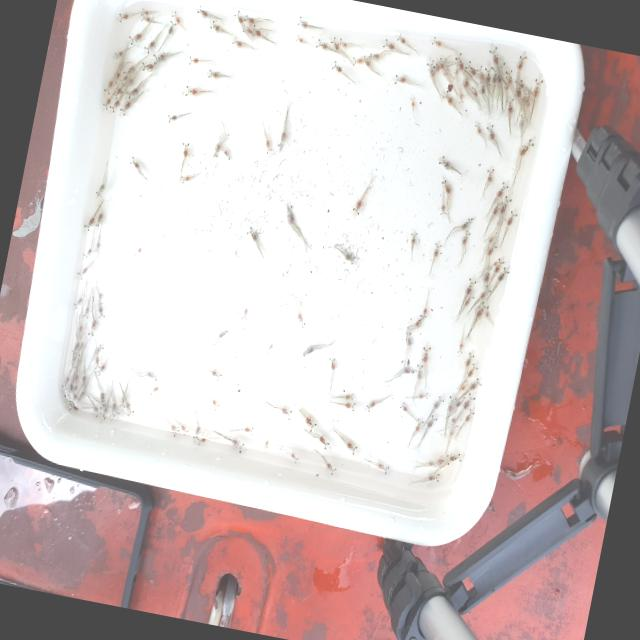babyshrimp: (515, 134, 535, 159), (459, 393, 475, 416), (349, 196, 364, 218), (531, 73, 543, 100), (488, 41, 500, 67), (230, 437, 247, 455), (495, 264, 511, 282), (494, 180, 509, 199), (504, 207, 518, 227), (495, 60, 506, 85), (515, 50, 527, 72), (467, 376, 483, 392), (317, 433, 332, 450), (152, 52, 170, 66), (499, 194, 511, 215), (474, 300, 488, 318), (303, 414, 317, 432), (278, 404, 292, 422), (276, 131, 288, 152), (127, 32, 143, 47), (297, 342, 313, 357), (195, 4, 212, 18), (344, 438, 358, 455), (329, 35, 342, 53), (463, 277, 476, 295), (323, 460, 336, 478), (245, 226, 258, 244), (294, 310, 305, 331), (208, 20, 223, 35), (328, 60, 343, 75), (284, 202, 293, 227), (437, 155, 451, 171), (82, 215, 95, 232), (143, 38, 156, 55), (293, 16, 310, 29), (312, 39, 330, 51), (430, 395, 444, 410), (169, 421, 180, 440), (128, 155, 141, 171), (249, 23, 262, 39), (440, 90, 453, 106), (491, 258, 504, 274), (144, 384, 160, 397), (94, 182, 106, 199), (464, 60, 476, 77), (421, 346, 431, 366), (460, 217, 474, 231), (76, 265, 89, 280), (142, 368, 157, 381), (343, 251, 356, 266), (478, 284, 490, 300), (119, 100, 130, 117), (102, 79, 113, 96), (107, 100, 120, 114), (380, 38, 394, 51), (375, 461, 389, 474), (122, 64, 134, 79), (184, 86, 199, 98), (392, 73, 407, 85), (454, 51, 463, 71), (490, 201, 502, 216), (446, 393, 456, 411), (435, 454, 450, 466), (124, 402, 135, 418), (205, 69, 221, 80), (233, 8, 244, 24), (463, 291, 474, 307), (463, 351, 474, 367), (466, 362, 477, 378), (211, 143, 222, 159), (485, 123, 494, 142), (87, 319, 97, 336), (485, 167, 495, 184), (460, 229, 470, 246), (216, 327, 229, 340), (141, 61, 155, 73), (425, 414, 437, 428), (447, 452, 461, 464), (363, 399, 375, 413), (242, 14, 257, 25), (335, 37, 350, 48), (426, 472, 441, 483), (505, 98, 514, 116), (166, 20, 176, 36), (441, 179, 451, 195), (264, 340, 274, 356), (125, 86, 137, 99), (230, 37, 243, 49), (430, 36, 443, 48), (72, 296, 83, 310), (170, 10, 181, 24), (483, 65, 492, 82), (413, 418, 423, 433), (81, 303, 90, 319), (94, 212, 103, 228), (490, 66, 498, 84), (413, 314, 422, 330), (409, 230, 417, 248), (192, 424, 201, 440), (93, 342, 104, 355), (343, 401, 356, 412), (241, 426, 254, 437), (179, 173, 192, 184), (82, 245, 92, 259), (395, 31, 405, 45), (461, 72, 468, 92), (289, 450, 299, 464), (222, 149, 232, 163), (109, 401, 117, 418), (99, 406, 108, 421), (163, 114, 178, 123), (432, 242, 441, 257), (328, 355, 337, 370), (181, 142, 190, 157), (76, 390, 86, 403), (350, 56, 363, 66), (360, 55, 370, 68), (366, 52, 379, 62), (474, 64, 484, 77), (455, 395, 465, 408), (211, 369, 221, 382), (92, 404, 101, 418), (111, 71, 120, 85), (473, 122, 482, 136), (416, 363, 423, 381), (240, 308, 249, 322), (112, 50, 123, 61), (294, 34, 305, 45), (95, 363, 105, 375), (133, 245, 141, 260), (139, 13, 151, 23), (187, 55, 199, 65), (439, 201, 447, 216), (405, 332, 413, 347), (180, 422, 188, 437), (456, 338, 463, 355), (67, 403, 80, 412), (101, 97, 110, 110), (118, 395, 126, 409), (485, 246, 495, 257), (118, 13, 130, 22), (402, 365, 414, 374), (342, 392, 354, 401), (194, 437, 206, 446), (97, 304, 104, 319), (112, 86, 120, 99), (264, 141, 272, 154), (457, 90, 463, 107), (486, 234, 495, 245), (399, 402, 408, 413), (93, 240, 100, 254), (93, 357, 100, 370), (470, 84, 477, 97), (139, 8, 149, 17), (409, 95, 415, 109), (262, 438, 269, 450), (212, 400, 219, 412), (99, 390, 105, 403), (420, 307, 427, 318), (418, 392, 427, 400), (428, 458, 435, 468), (492, 259, 499, 267)
